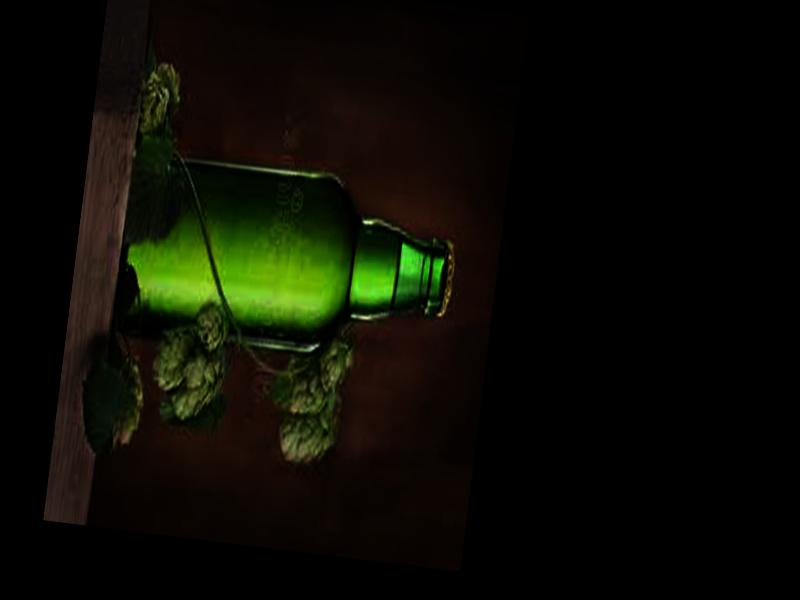Beer: (107, 148, 465, 365)
